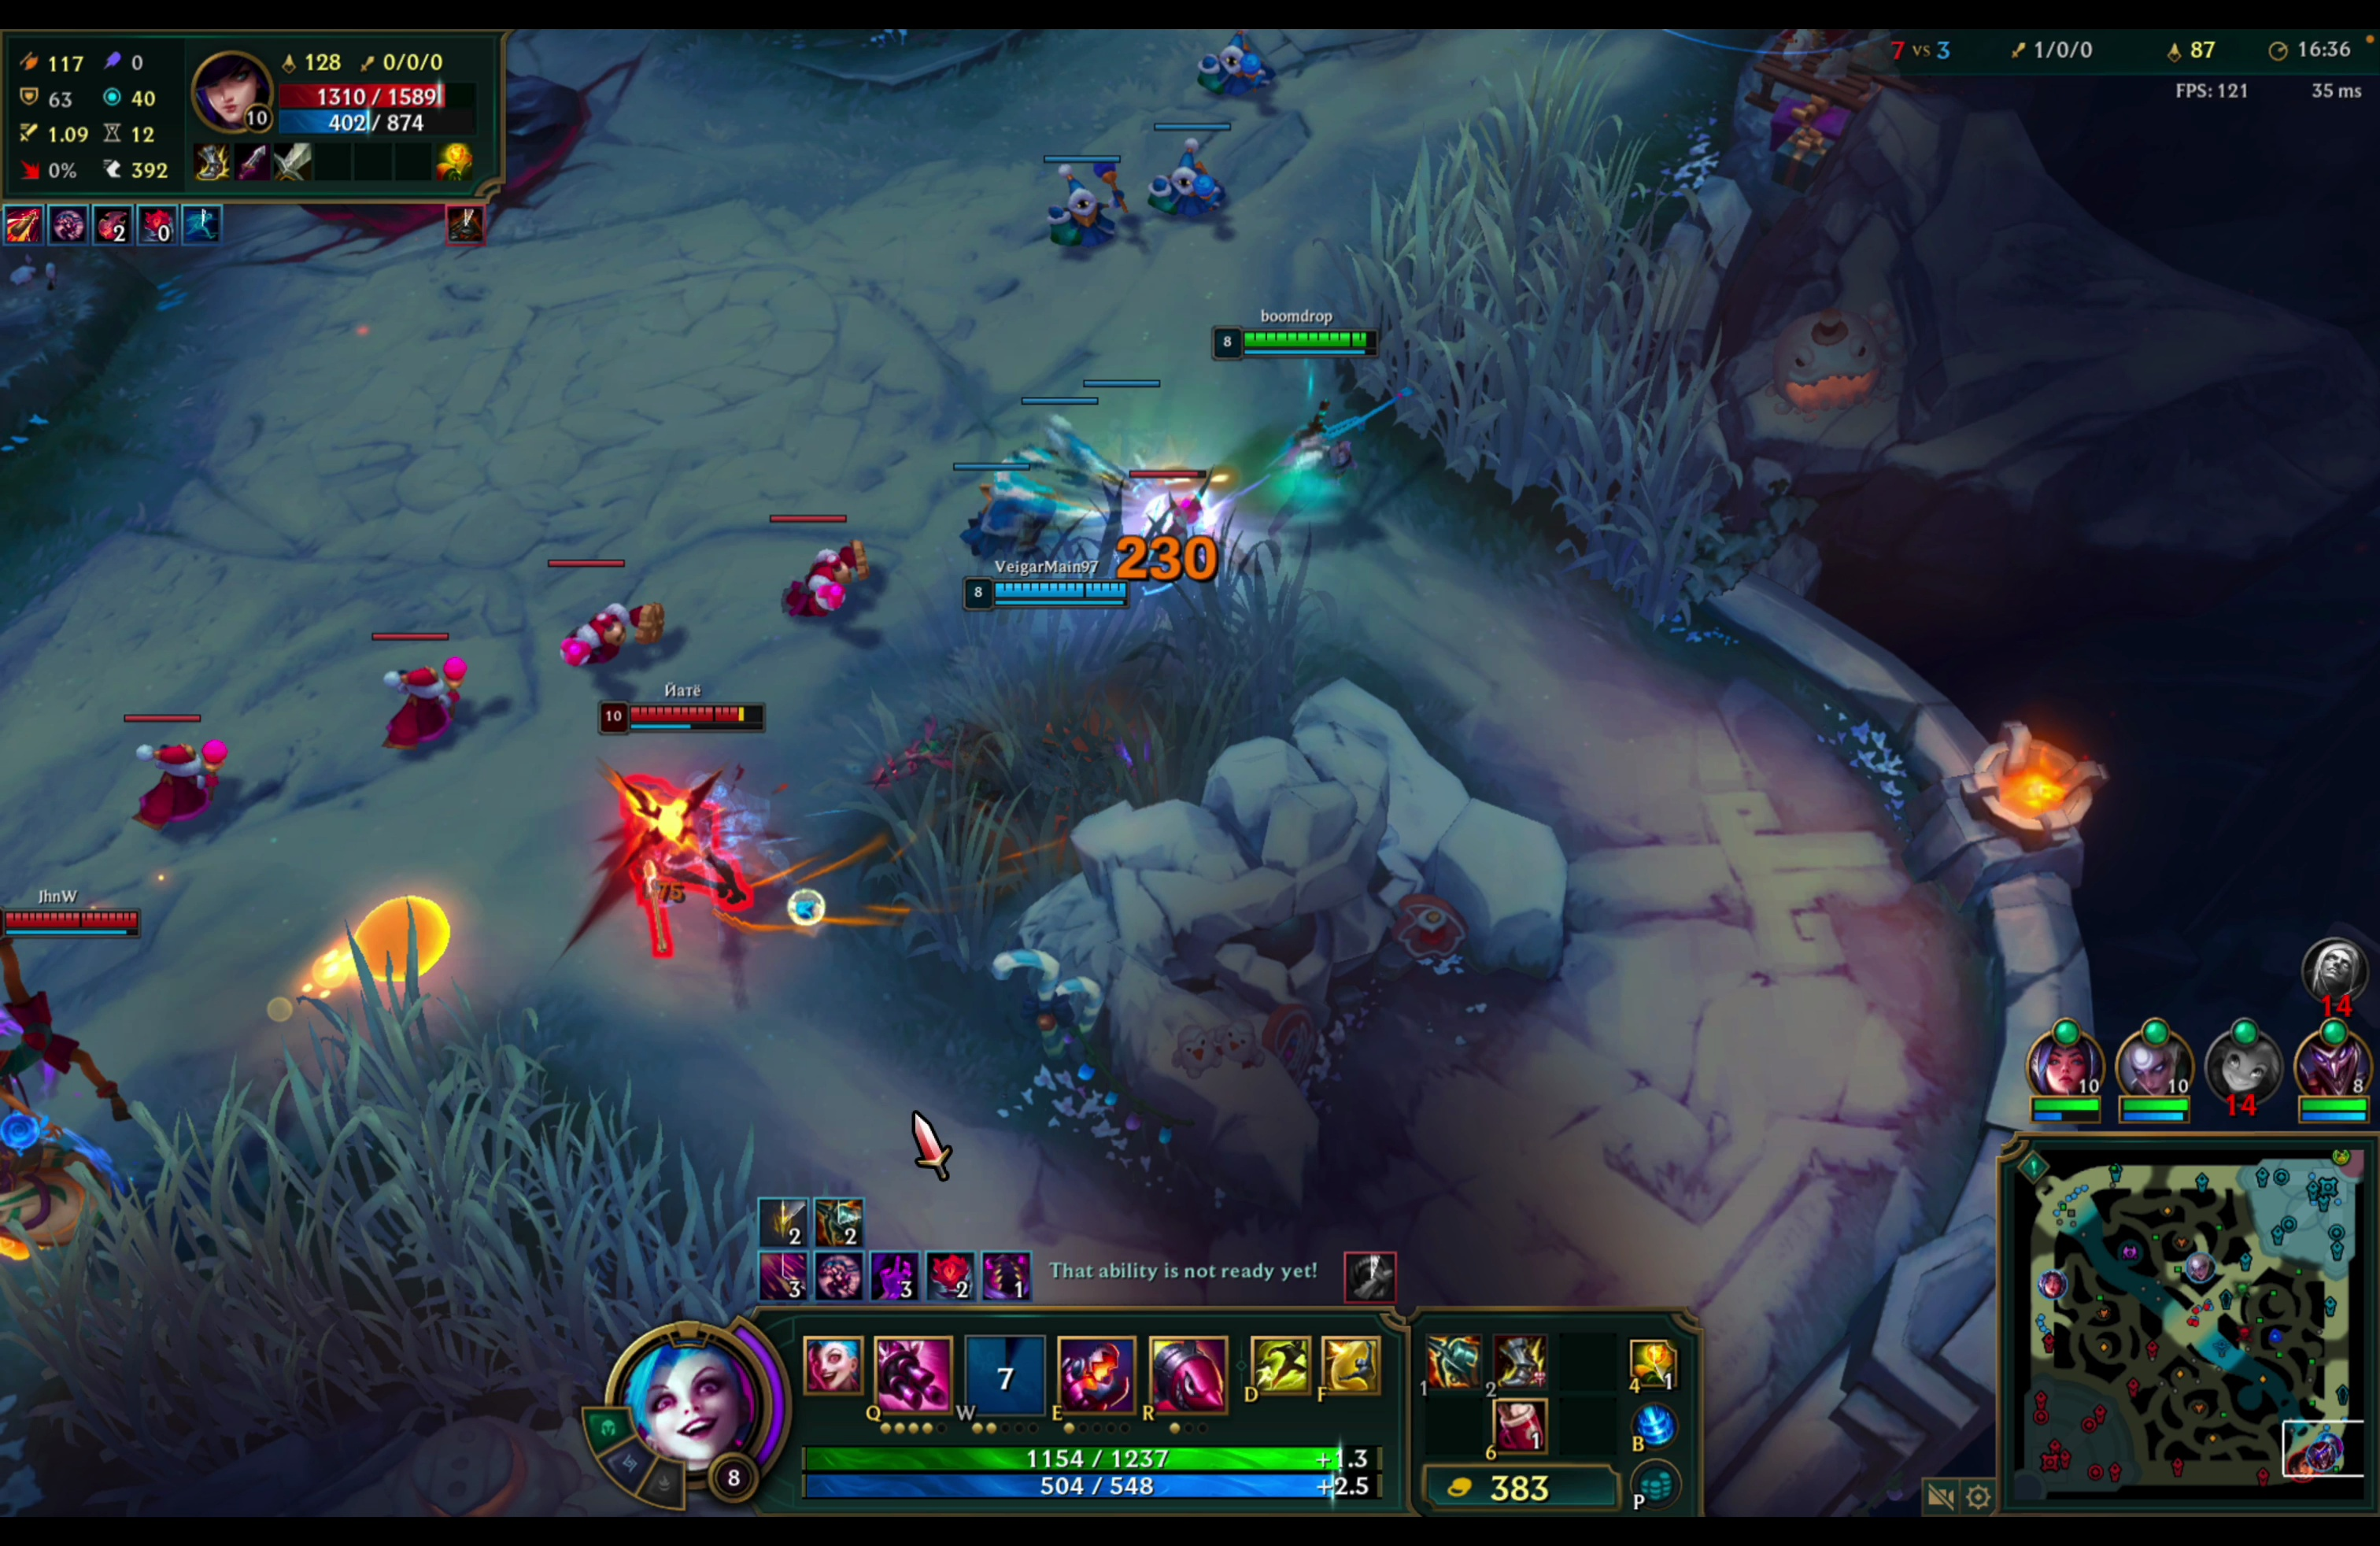JINX_W_IMPACT: (1108, 307, 1403, 586)
